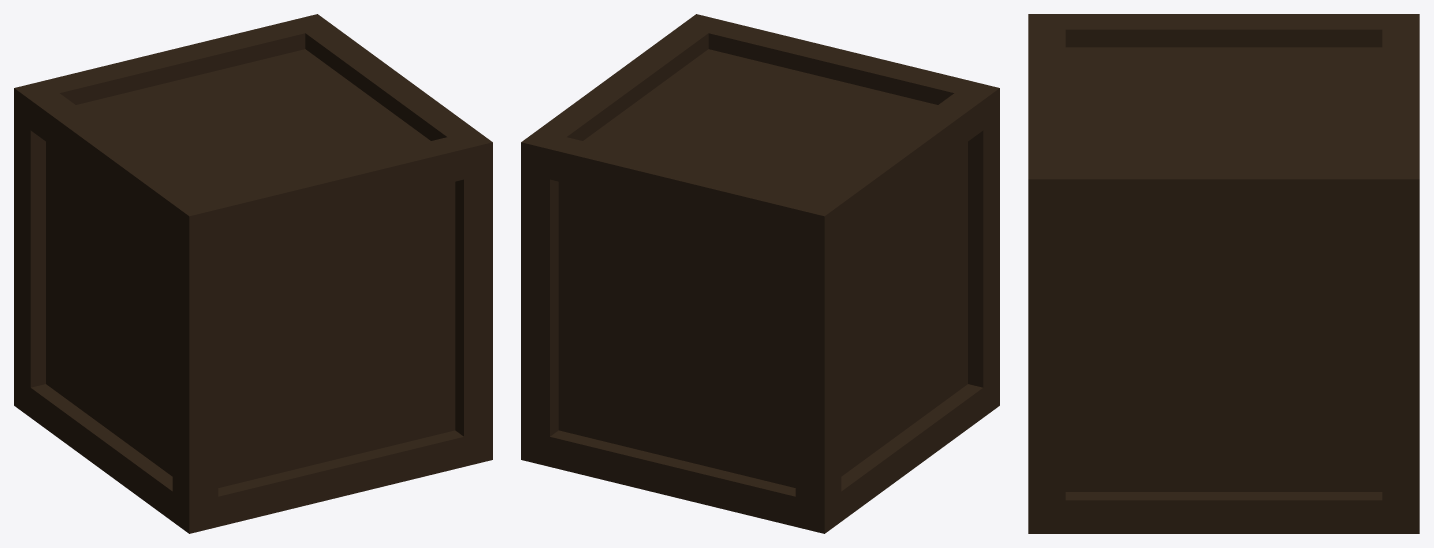
Rendered from Crate.fbx.
3 views of the same model, side by side, from view 1: azimuth 30°, elevation 25°; view 2: azimuth 150°, elevation 25°; view 3: azimuth 270°, elevation 25° (orthographic). The views are drawn at different scales.
Parts seen in each view (by area): view 1: shard1, shard7, shard18, shard20, shard10, shard2, shard31, shard4, shard23, shard9, shard3, shard5 (+4 smaller); view 2: shard1, shard20, shard2, shard23, shard31, shard18, shard19, shard13, shard5, shard16, shard30, shard27 (+2 smaller); view 3: shard1, shard12, shard19, shard5, shard9, shard7, shard2, shard18, shard23, shard6.
Part boxes in pixels (bbox=[...]): shard1: bbox=[52, 30, 492, 189]; shard7: bbox=[280, 171, 492, 366]; shard18: bbox=[112, 179, 323, 395]; shard20: bbox=[14, 178, 225, 450]; shard10: bbox=[154, 372, 400, 533]; shard2: bbox=[14, 42, 246, 250]; shard31: bbox=[14, 293, 174, 522]; shard4: bbox=[179, 365, 284, 498]; shard23: bbox=[203, 14, 338, 84]; shard9: bbox=[370, 358, 492, 446]; shard3: bbox=[386, 393, 492, 483]; shard5: bbox=[333, 328, 492, 379]; shard1: bbox=[543, 14, 954, 199]; shard20: bbox=[725, 226, 999, 424]; shard2: bbox=[636, 156, 916, 290]; shard23: bbox=[521, 126, 705, 300]; shard31: bbox=[740, 374, 985, 533]; shard18: bbox=[820, 55, 999, 266]; shard19: bbox=[521, 353, 728, 477]; shard13: bbox=[596, 381, 771, 520]; shard5: bbox=[521, 286, 712, 377]; shard16: bbox=[697, 222, 922, 322]; shard30: bbox=[661, 289, 806, 408]; shard27: bbox=[908, 317, 999, 379]; shard1: bbox=[1028, 14, 1372, 266]; shard12: bbox=[1042, 179, 1419, 391]; shard19: bbox=[1170, 404, 1419, 533]; shard5: bbox=[1028, 342, 1419, 423]; shard9: bbox=[1028, 410, 1227, 533]; shard7: bbox=[1028, 86, 1218, 397]; shard2: bbox=[1308, 14, 1419, 137]; shard18: bbox=[1028, 14, 1146, 116]; shard23: bbox=[1319, 116, 1419, 270]; shard6: bbox=[1343, 213, 1382, 264].
Size of the model in its own units: 1 by 1 by 1.
